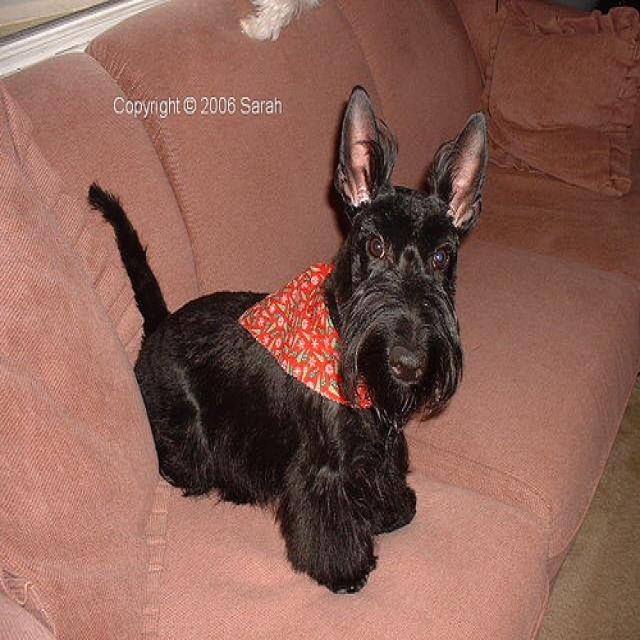dog-scottish_terrier: (74, 63, 499, 608)
